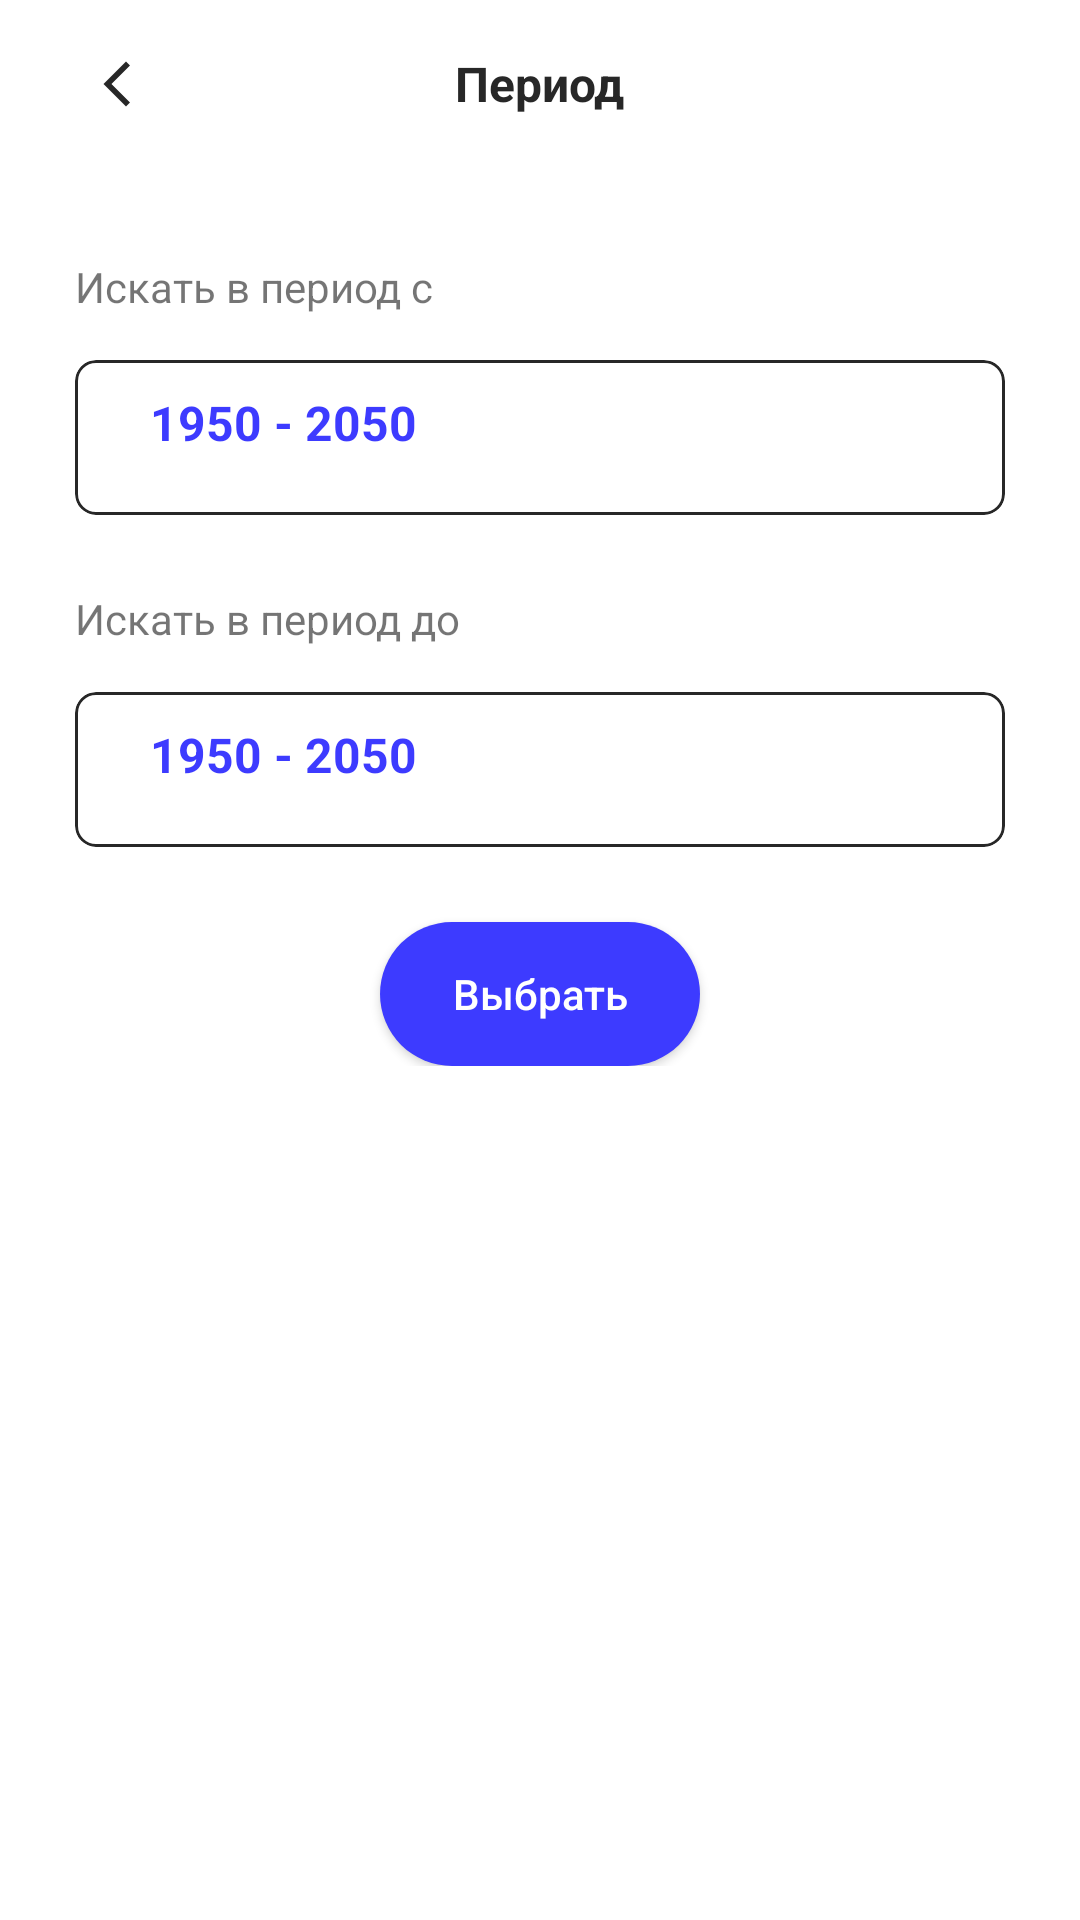

Icon click points for this 1080*1920 phone screenshot, format point (x, y):
back: point (116, 84)
